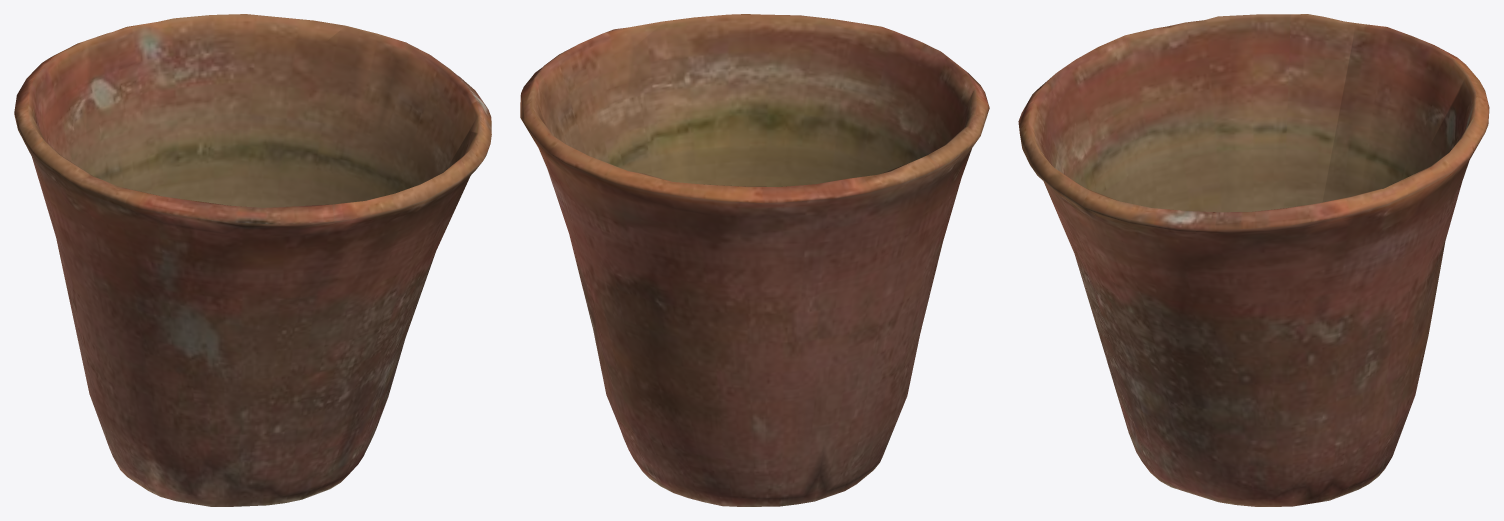
Rendered from planter_pot_clay.glb.
3 views of the same model, side by side, from view 1: azimuth 30°, elevation 25°; view 2: azimuth 150°, elevation 25°; view 3: azimuth 270°, elevation 25° (orthographic).
Parts seen in each view (by area): view 1: planter_pot_clay; view 2: planter_pot_clay; view 3: planter_pot_clay.
Part boxes in pixels (bbox=[...]): planter_pot_clay: bbox=[14, 14, 491, 506]; planter_pot_clay: bbox=[520, 14, 989, 506]; planter_pot_clay: bbox=[1018, 14, 1489, 506].
Size of the model in its own units: 0.2656 by 0.2218 by 0.2635.
1 material, 1 textured.
